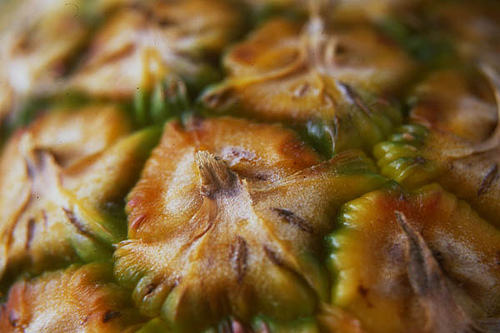pineapple: (3, 0, 499, 332)
